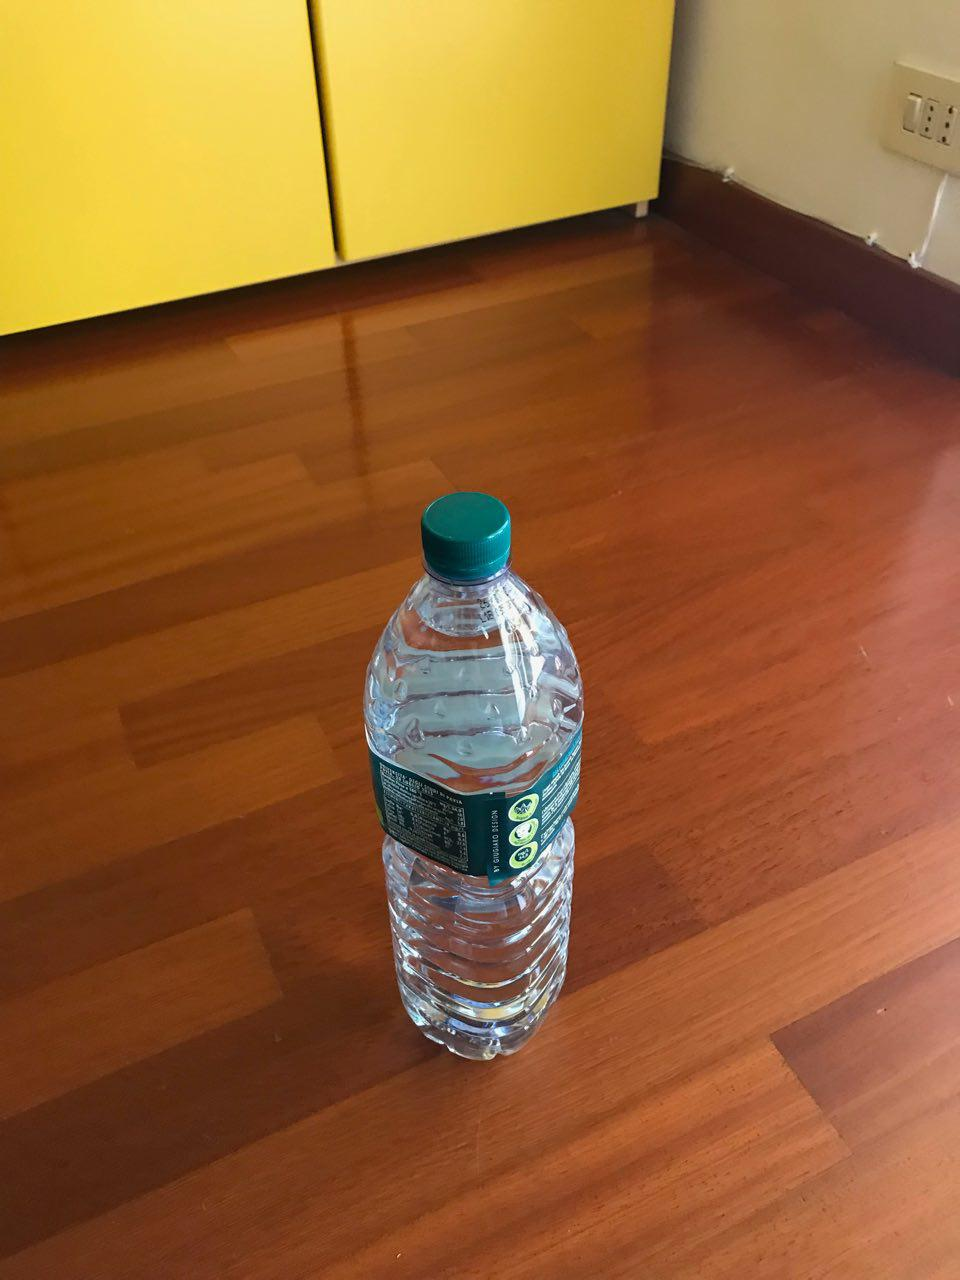san_bernardo: (360, 491, 586, 1062)
